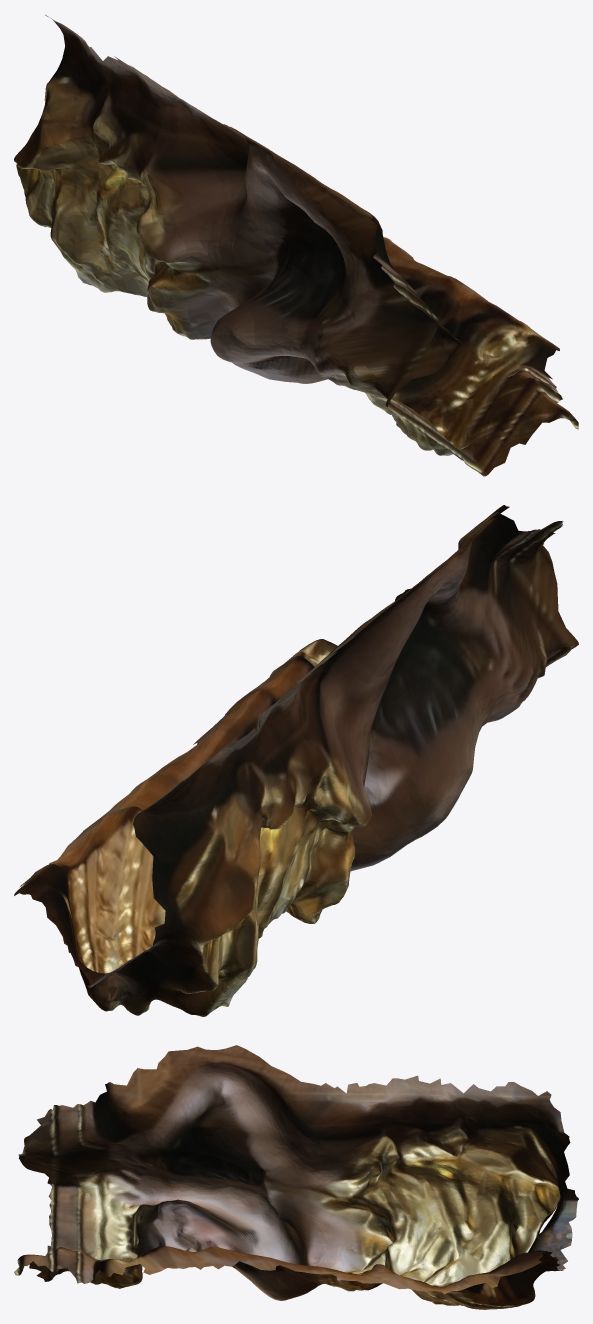
File: domFace01.obj
3 views of the same model, one above another, from view 1: azimuth 30°, elevation 25°; view 2: azimuth 150°, elevation 25°; view 3: azimuth 270°, elevation 25° (orthographic). The views are drawn at different scales.
Bounding box in the file's own units: 7.7 × 9.35 × 21.62.
